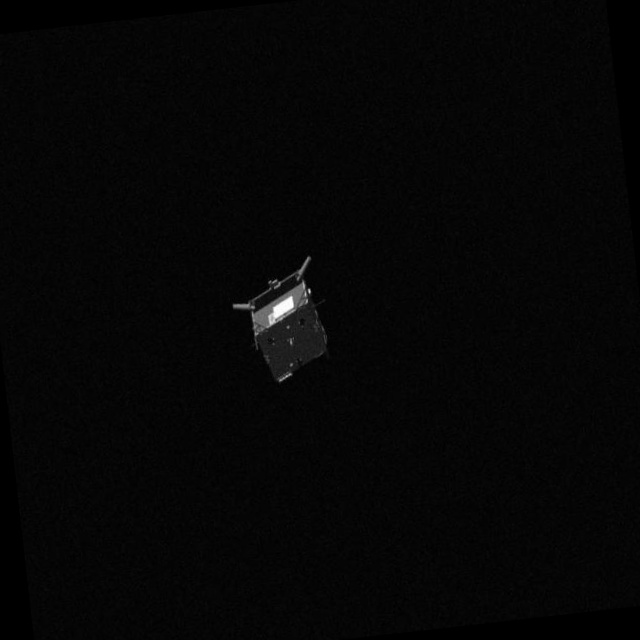satellite: (227, 253, 339, 391)
